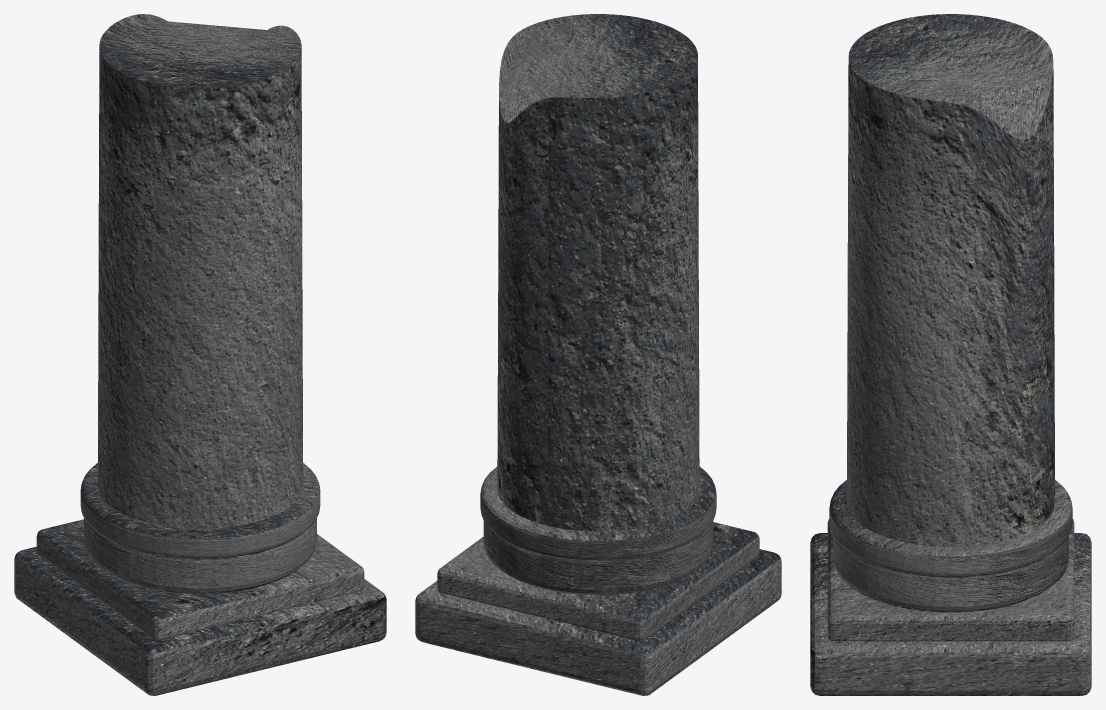
The model's file is cracked-pillar-v02.glb.
The picture shows the model from 3 angles, left to right: view 1: azimuth 30°, elevation 25°; view 2: azimuth 150°, elevation 25°; view 3: azimuth 270°, elevation 25°; orthographic projection. The views are drawn at different scales.
Visible parts, largest first — view 1: Fuste de coluna antigo rachado, Plinto quadrado, Moldura do plinto, Colar da coluna, Touro da base; view 2: Fuste de coluna antigo rachado, Plinto quadrado, Moldura do plinto, Colar da coluna, Touro da base; view 3: Fuste de coluna antigo rachado, Plinto quadrado, Moldura do plinto, Colar da coluna, Touro da base.
Part boxes in pixels (x1,y1,x2,y2): Fuste de coluna antigo rachado: (97,14,303,528); Plinto quadrado: (14,546,386,695); Moldura do plinto: (36,519,364,639); Colar da coluna: (80,463,320,558); Touro da base: (84,518,316,593); Fuste de coluna antigo rachado: (497,14,699,531); Plinto quadrado: (415,549,781,695); Moldura do plinto: (437,522,759,640); Colar da coluna: (480,467,716,561); Touro da base: (483,521,713,595); Fuste de coluna antigo rachado: (847,14,1054,546); Plinto quadrado: (810,533,1091,695); Moldura do plinto: (827,519,1074,641); Colar da coluna: (829,480,1072,577); Touro da base: (833,536,1068,612).
Bounding box in the file's own units: 1.62 × 3.7 × 1.62.
1 material, 1 textured.
